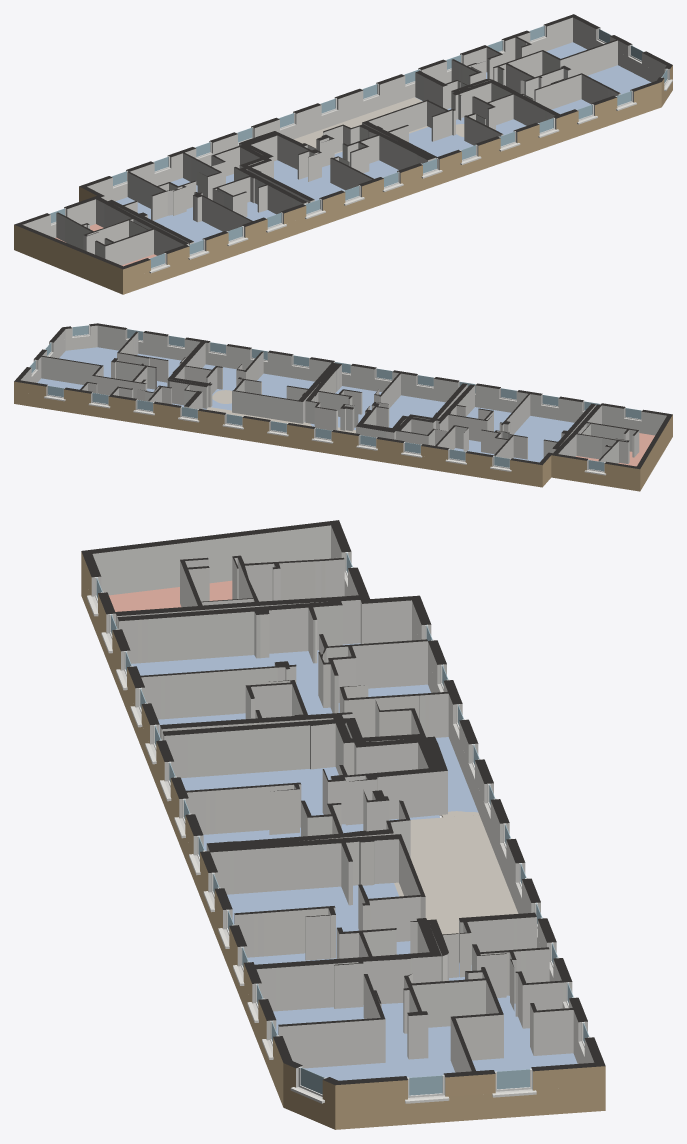
File: cut-3.glb
3 renders of one model, top to bottom at view 1: azimuth 30°, elevation 25°; view 2: azimuth 150°, elevation 25°; view 3: azimuth 270°, elevation 25°, orthographic. The views are drawn at different scales.
Parts seen in each view (by area): view 1: cut floor; view 2: cut floor; view 3: cut floor.
Part boxes in pixels (box(x1,y1,x2,y2)): cut floor: box(14, 14, 672, 294); cut floor: box(14, 323, 672, 491); cut floor: box(81, 520, 605, 1129).
Size of the model in its own units: 40.71 by 1.52 by 15.97.
